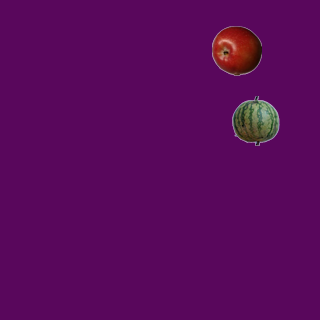Apple Braeburn: (211, 25, 261, 75)
Watermelon: (230, 95, 280, 145)
